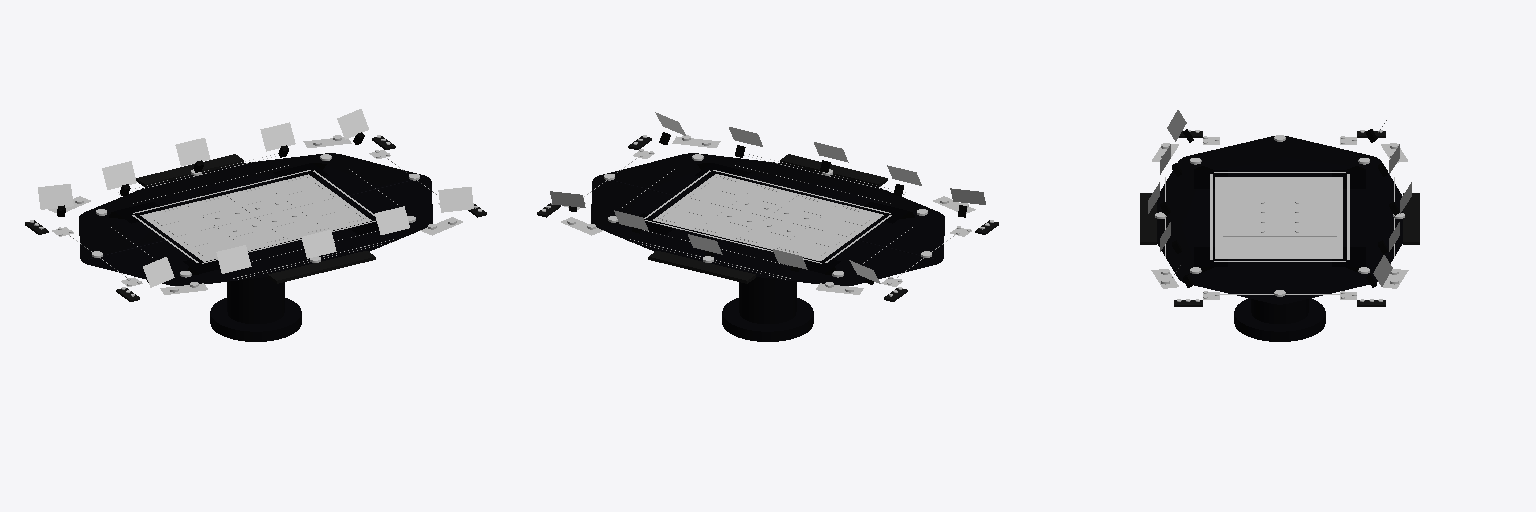
File: sci_fi_table.obj
3 renders of one model, left to right at view 1: azimuth 30°, elevation 25°; view 2: azimuth 150°, elevation 25°; view 3: azimuth 270°, elevation 25°, orthographic.
Visible parts, largest first — view 1: Primary_Surface, Display_Grid, Table_Leg, Table_Base, Control_Interface_back, Control_Interface_front, Monitor_Screen_6, Monitor_Screen_5, Monitor_Screen_7, Monitor_Screen_8, Monitor_Screen_9, Monitor_Screen_2 (+4 smaller); view 2: Primary_Surface, Display_Grid, Table_Leg, Table_Base, Control_Interface_front, Control_Interface_back; view 3: Primary_Surface, Display_Grid, Table_Base, Table_Leg, Control_Interface_front, Control_Interface_back.
Boxes of the visible parts, x1,y1,x2,y2 form: Primary_Surface: [79, 153, 432, 285]; Display_Grid: [144, 176, 367, 258]; Table_Leg: [227, 277, 284, 323]; Table_Base: [210, 298, 301, 341]; Control_Interface_back: [268, 251, 375, 283]; Control_Interface_front: [136, 154, 243, 186]; Monitor_Screen_6: [438, 187, 473, 212]; Monitor_Screen_5: [38, 184, 73, 209]; Monitor_Screen_7: [375, 206, 409, 234]; Monitor_Screen_8: [301, 230, 336, 258]; Monitor_Screen_9: [216, 245, 251, 273]; Monitor_Screen_2: [260, 122, 295, 151]; Primary_Surface: [591, 153, 944, 285]; Display_Grid: [656, 176, 879, 258]; Table_Leg: [739, 277, 796, 323]; Table_Base: [722, 298, 813, 341]; Control_Interface_front: [648, 251, 755, 283]; Control_Interface_back: [780, 154, 887, 186]; Primary_Surface: [1157, 136, 1402, 304]; Display_Grid: [1220, 177, 1339, 256]; Table_Base: [1234, 298, 1325, 341]; Table_Leg: [1251, 299, 1308, 323]; Control_Interface_front: [1403, 193, 1419, 244]; Control_Interface_back: [1140, 193, 1156, 244].
Bounding box in the file's own units: 3.6 × 1.29 × 2.45.